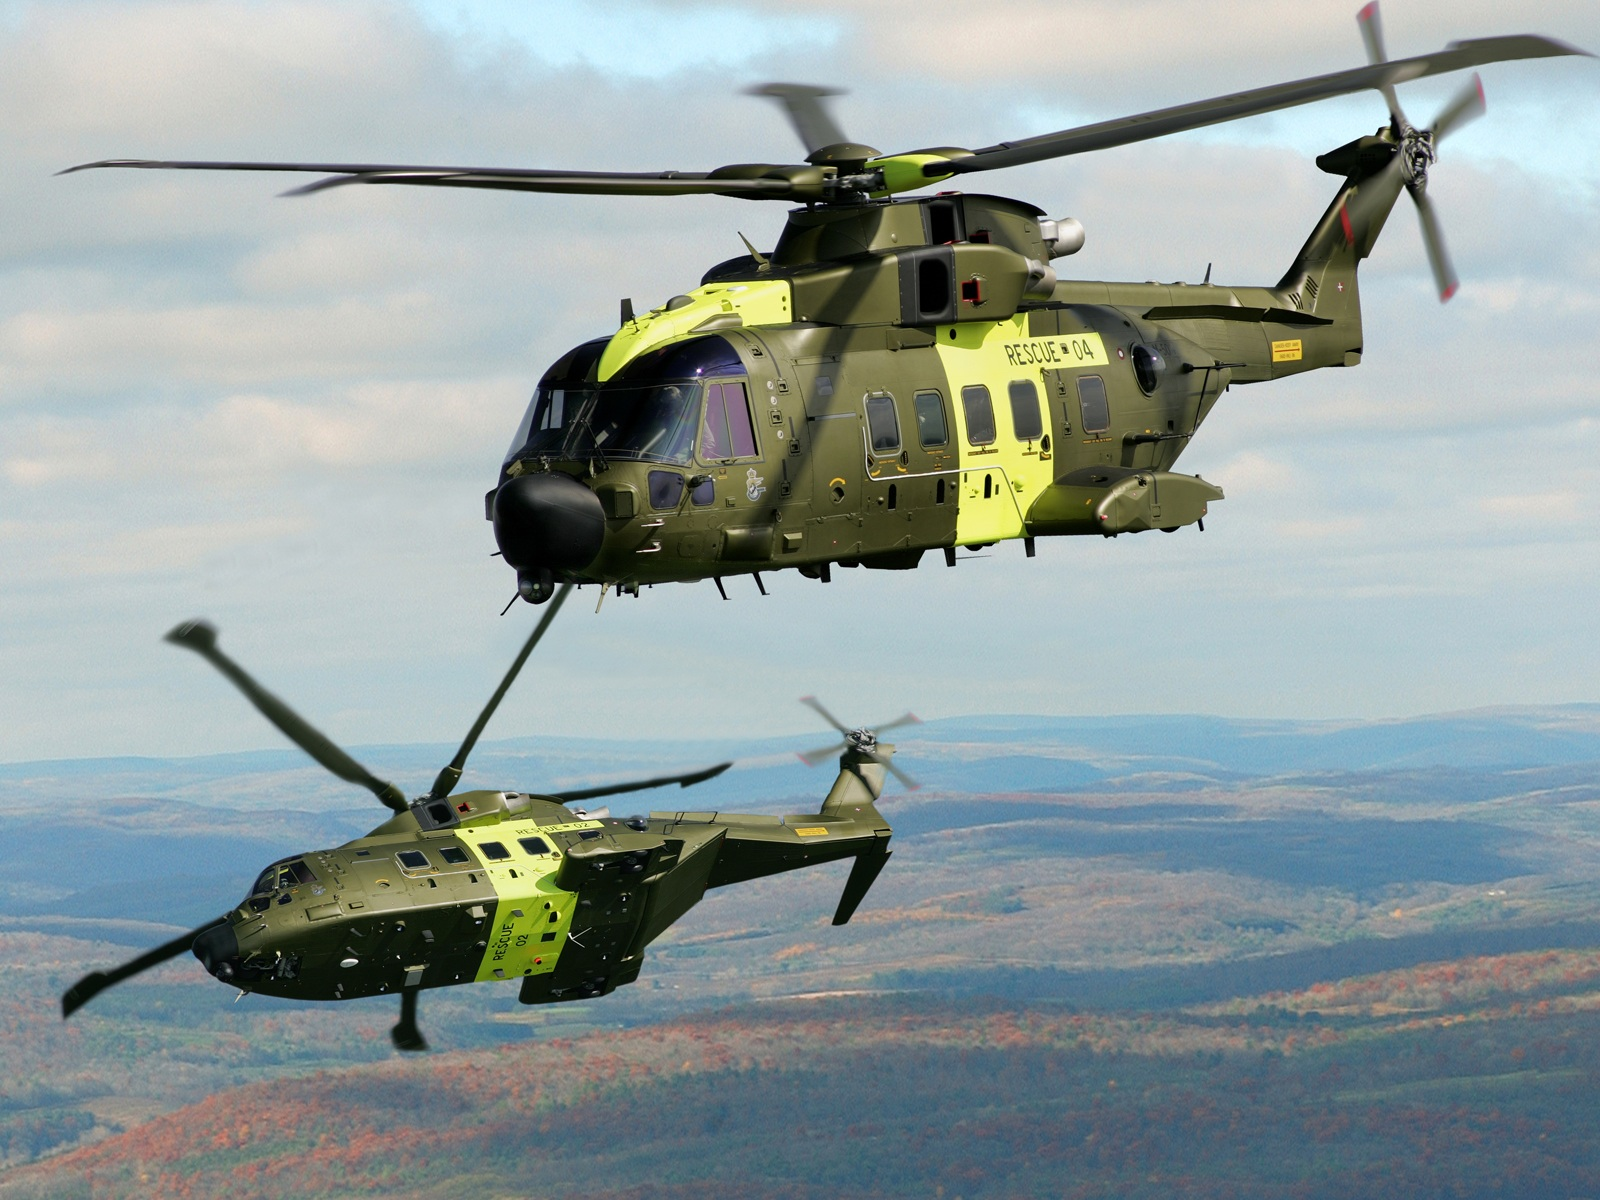Merlin: (480, 95, 1506, 635), (42, 633, 965, 1070)
